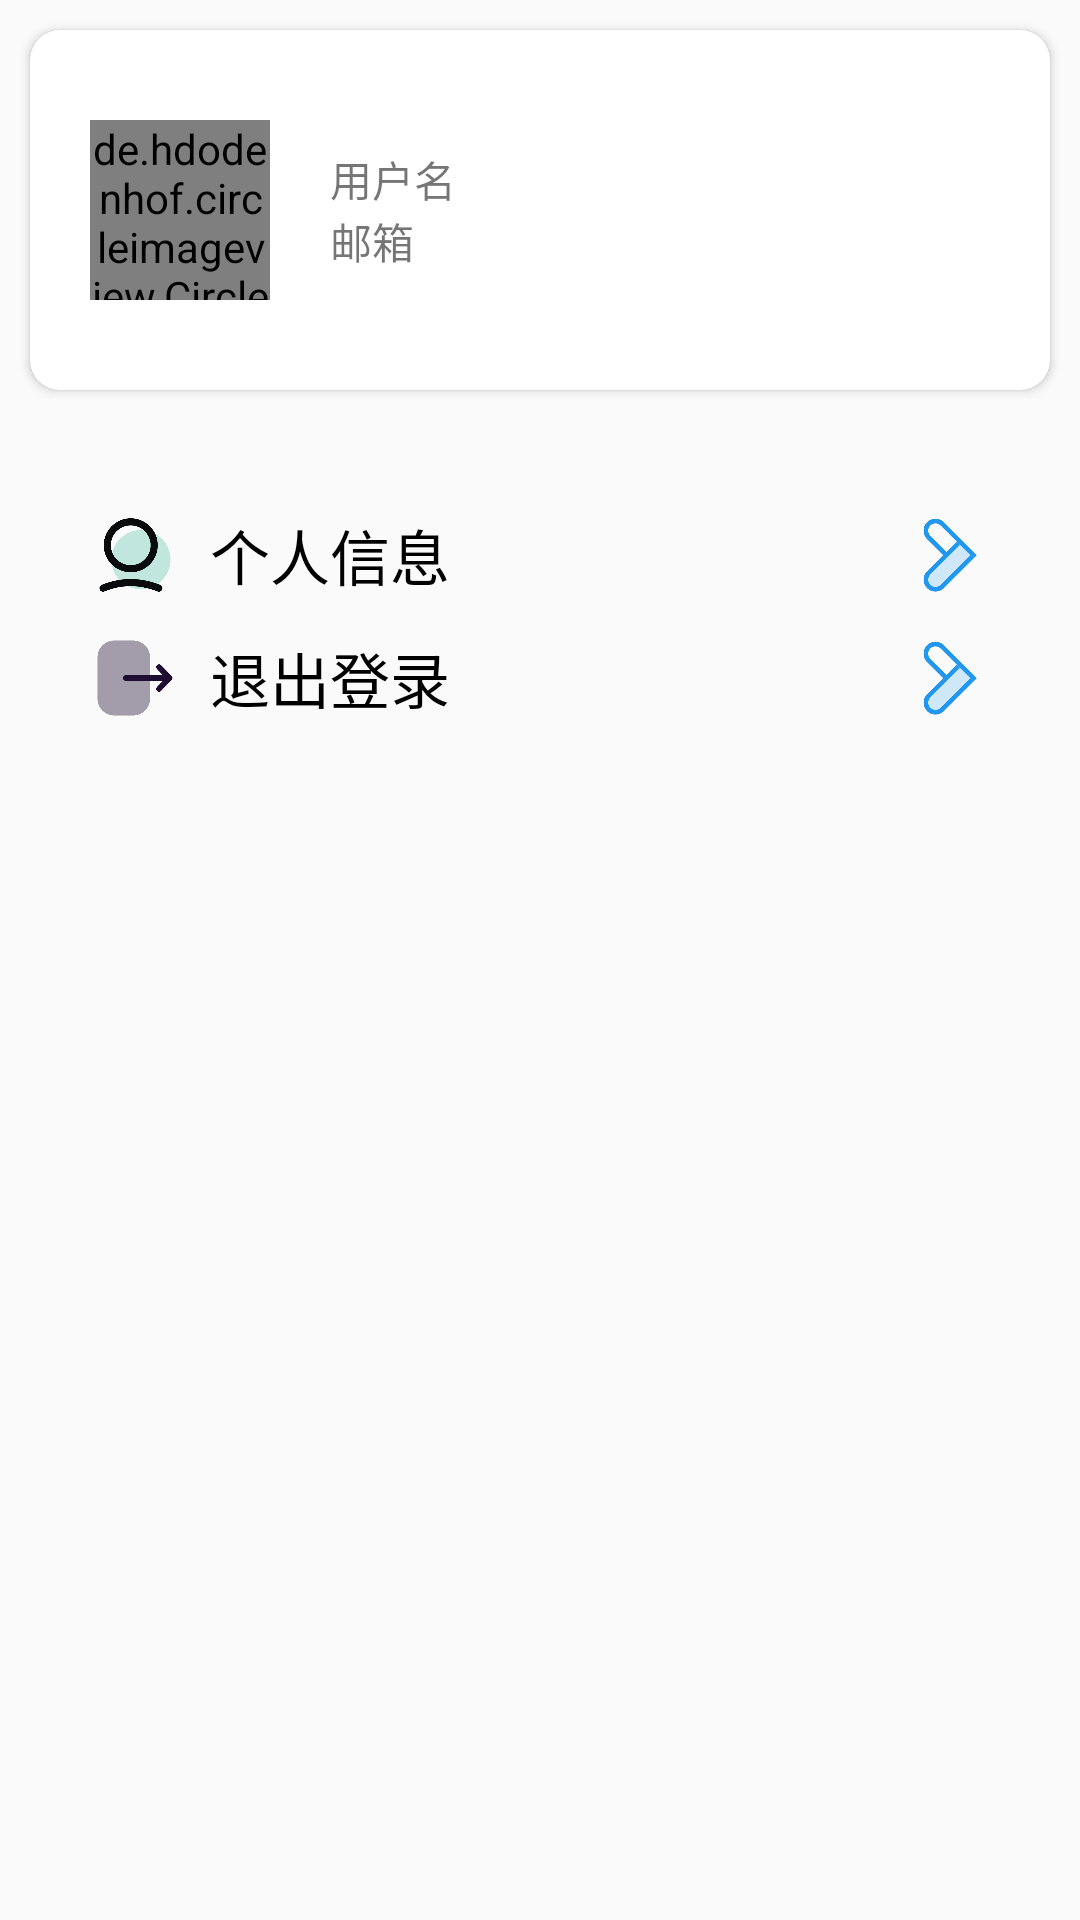

Where to tap for icons on this 1080px x 1920px app screen, as (x=x, y=y):
personal: (x=135, y=555)
right: (x=950, y=555), (x=950, y=678)
